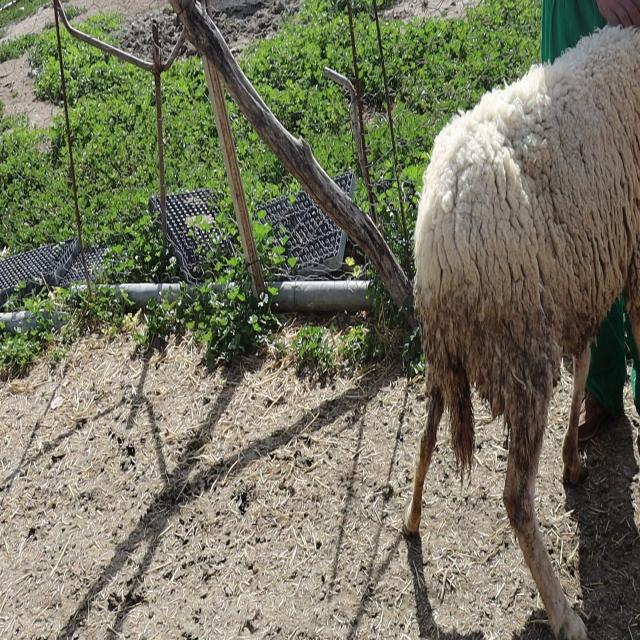Score_2: (404, 25, 640, 639)
